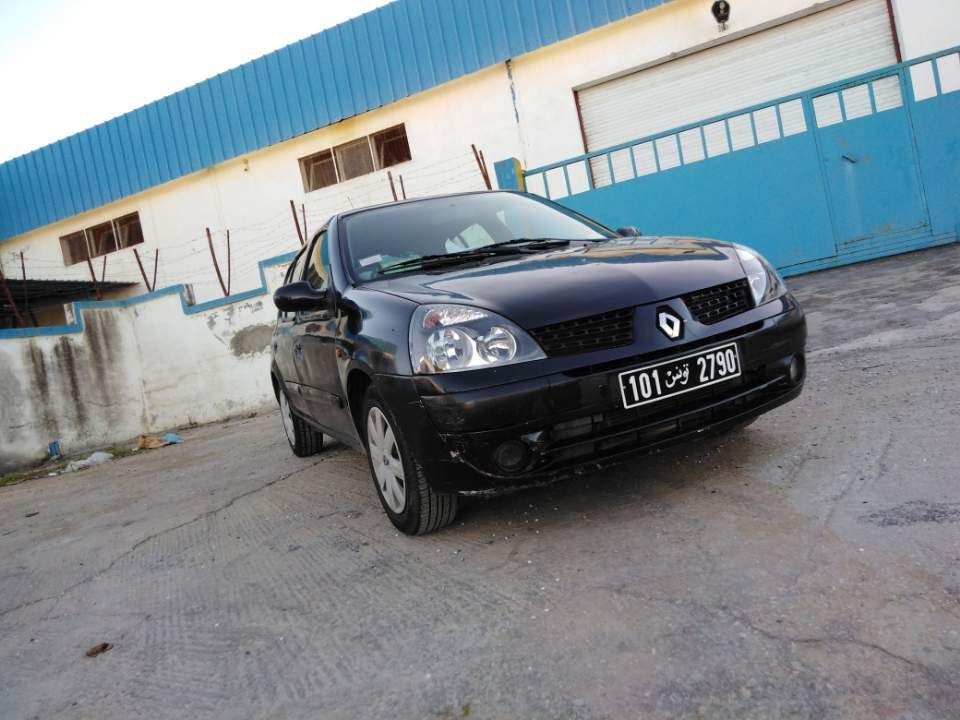LP: (617, 342, 743, 408)
